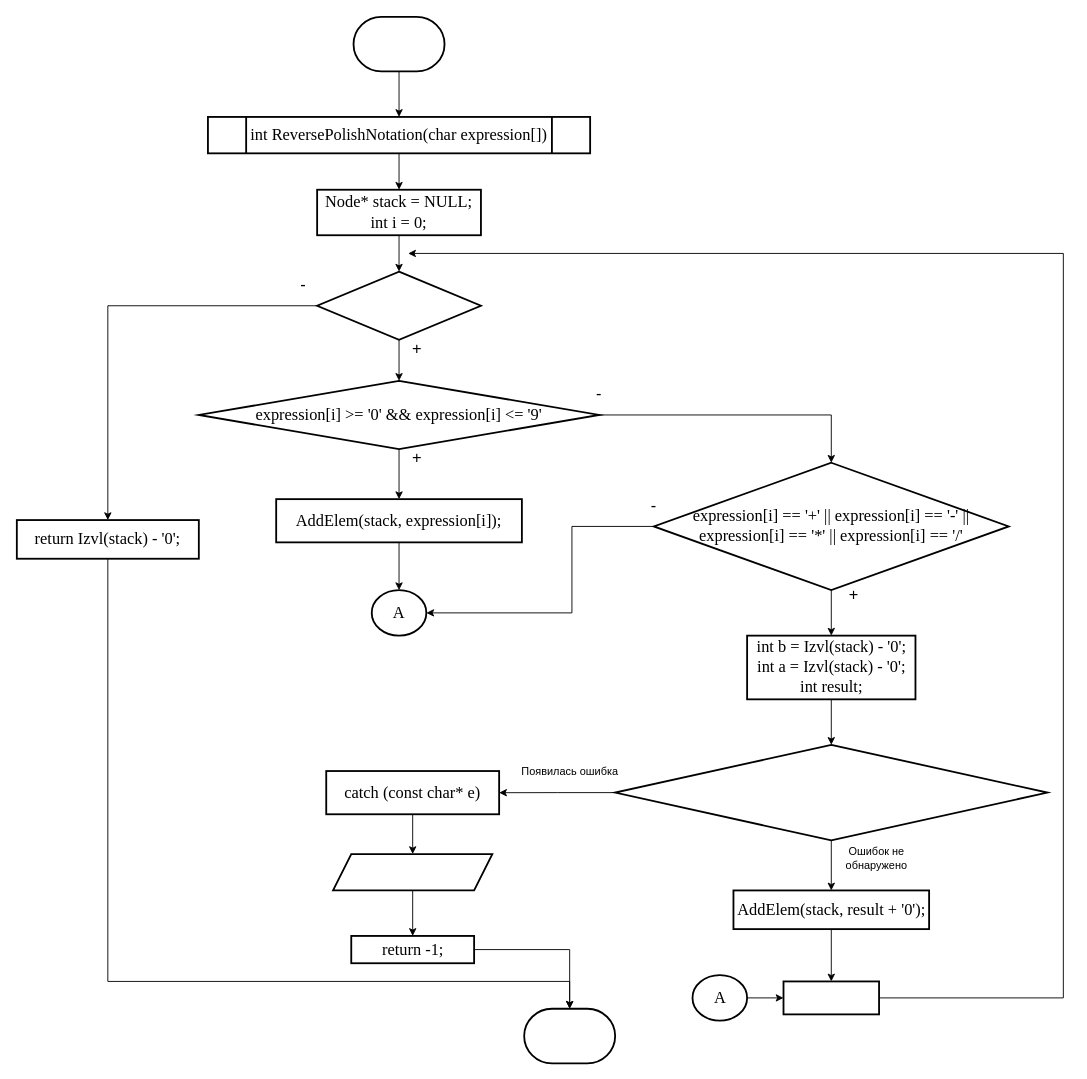
Some shapes in this 1087 by 1079 pixel diagram are drawn without their labels. Each missing label, with the centre of its shape:
"cout << e << endl;" goes at (x=412, y=872).
"expression[i] != '\0'" goes at (x=398, y=305).
"i++" goes at (x=831, y=997).
"try { result = ApplyOperations(expression[i], a, b); }" goes at (x=831, y=792).
"Конец" goes at (x=569, y=1035).
"Начало" goes at (x=398, y=43).
